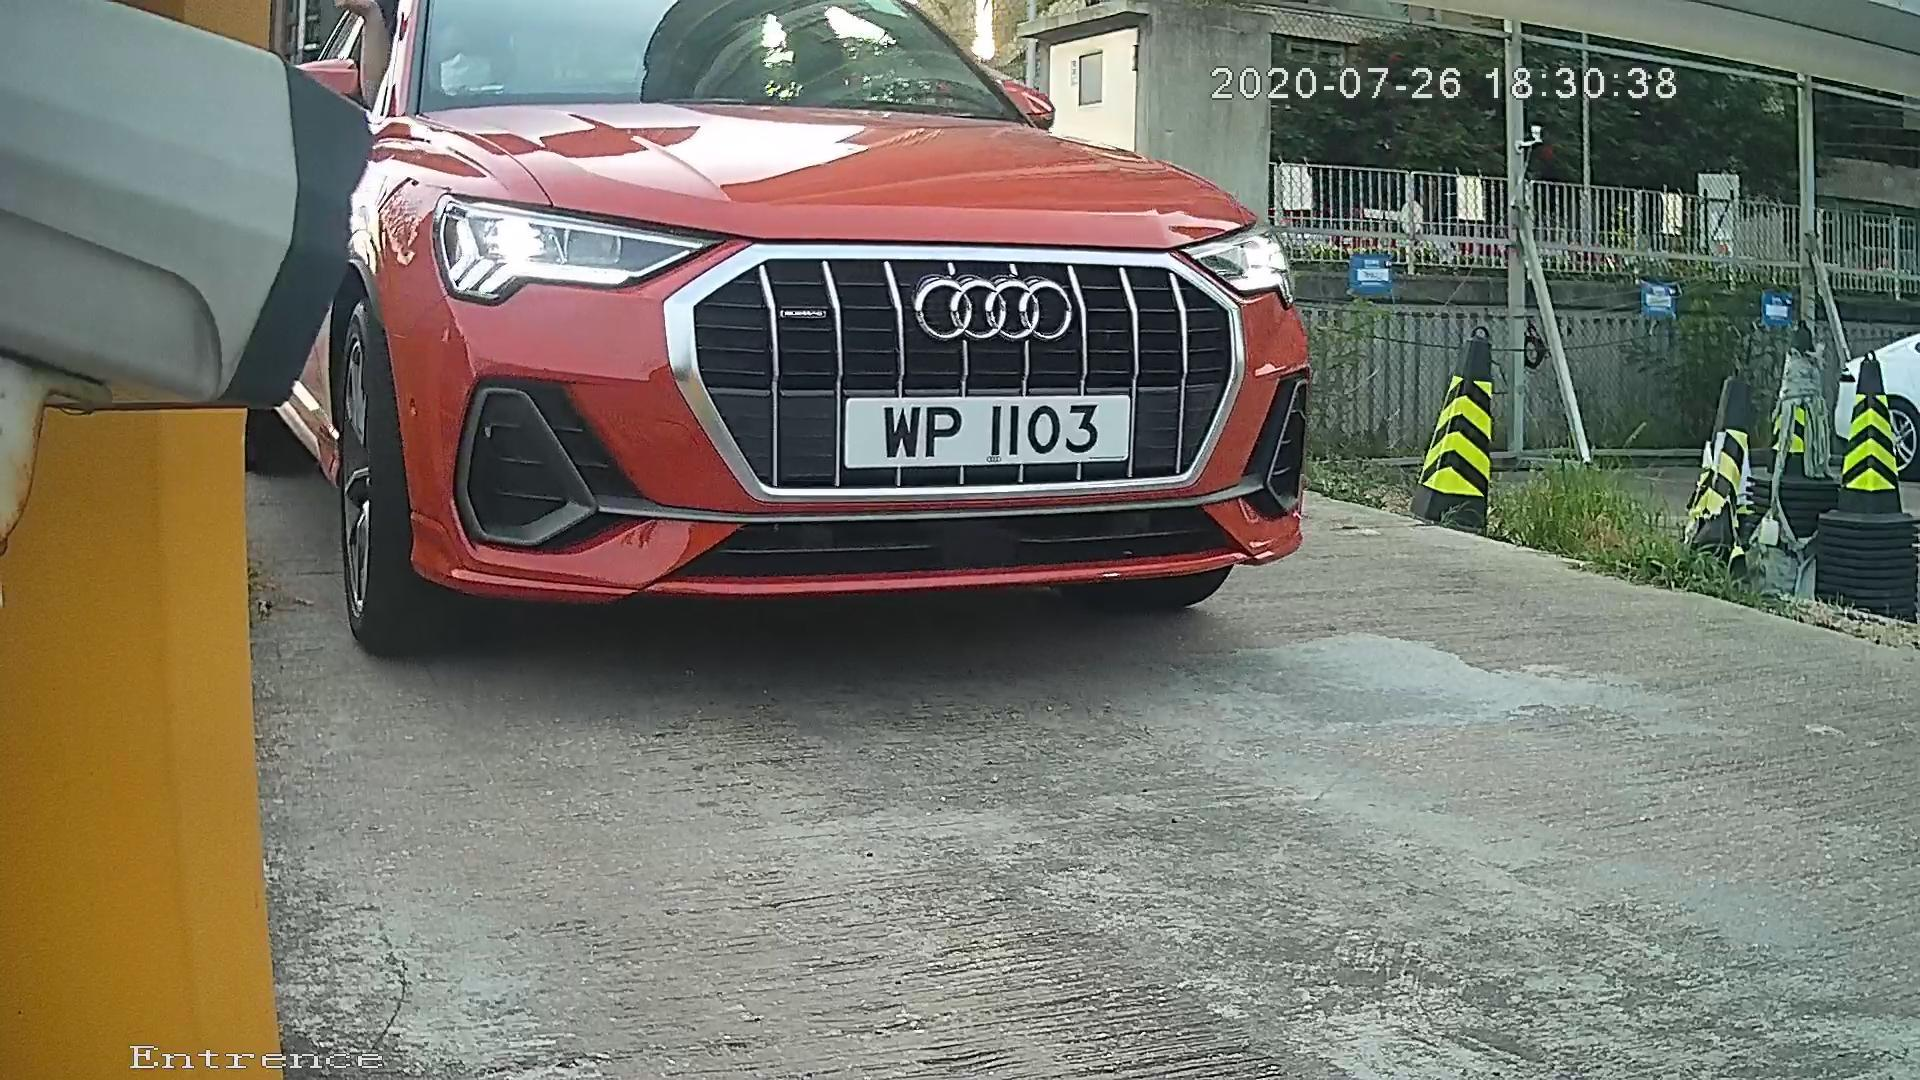License Plate: (806, 372, 1158, 483)
